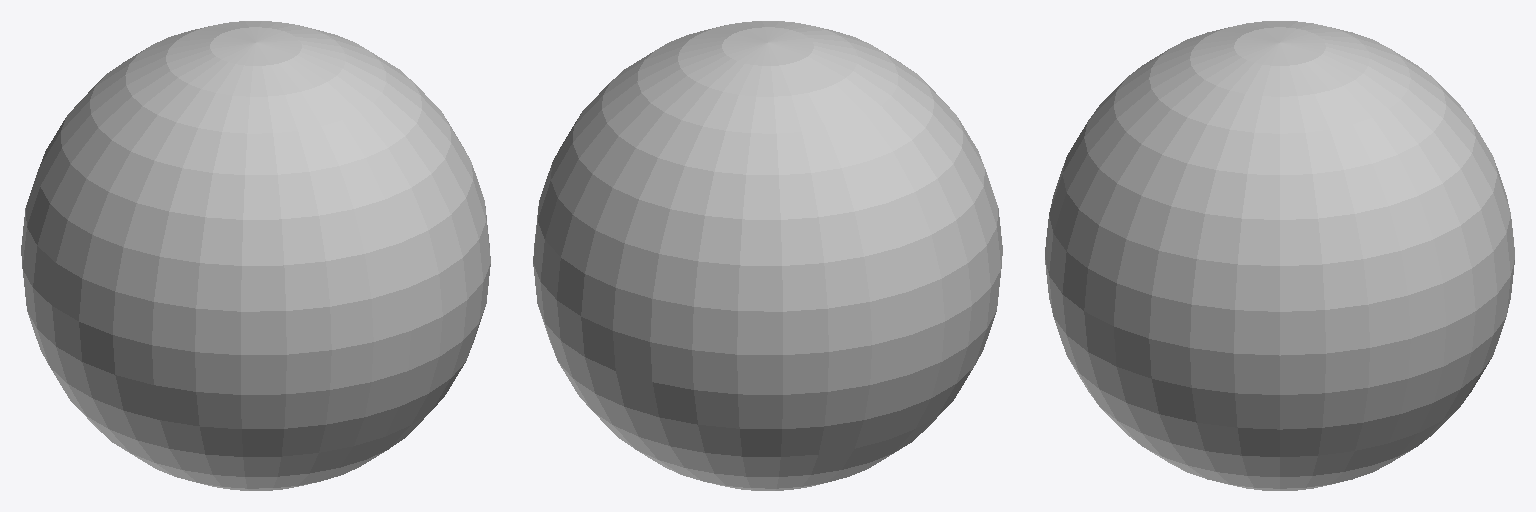
Rendered from Pukman.obj.
3 renders of one model, left to right at view 1: azimuth 30°, elevation 25°; view 2: azimuth 150°, elevation 25°; view 3: azimuth 270°, elevation 25°, orthographic.
Visible parts, largest first — view 1: Sphere; view 2: Sphere; view 3: Sphere.
Part boxes in pixels (left/top/right/bottom): Sphere: left=21, top=21, right=490, bottom=490; Sphere: left=533, top=21, right=1002, bottom=490; Sphere: left=1045, top=21, right=1514, bottom=490.
Size of the model in its own units: 2 by 2 by 2.